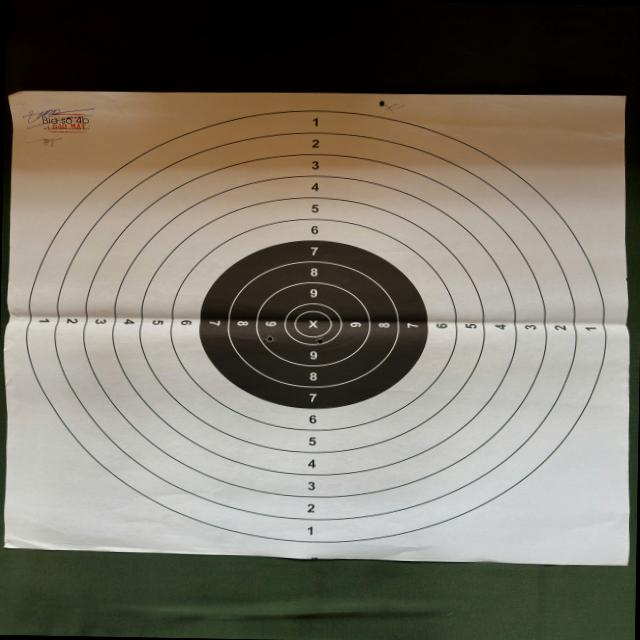bullet: (316, 337, 323, 343), (379, 100, 384, 106), (266, 337, 273, 341)
target: (4, 91, 628, 564)
